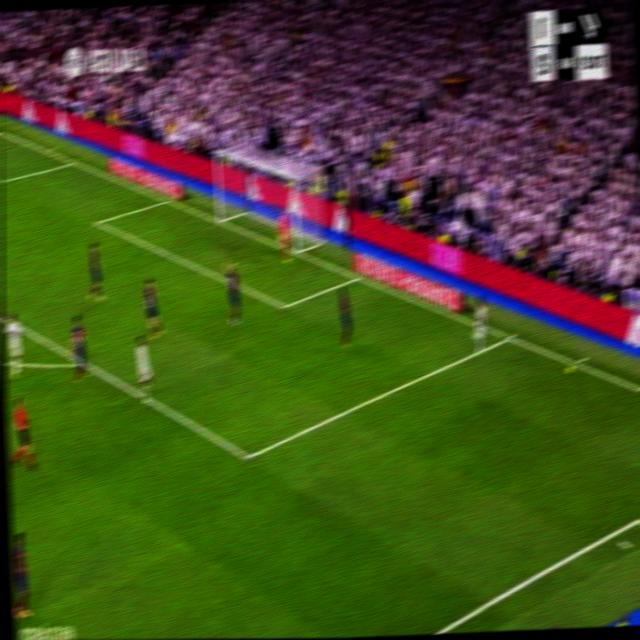bigarea_bottom_inner: (240, 441, 255, 471)
bigarea_bottom_outter: (502, 327, 515, 346)
bigarea_top_outter: (67, 154, 78, 168)
bottom_arc_area_intersection: (502, 327, 515, 346)
smallarea_top_inner: (93, 213, 102, 229)
